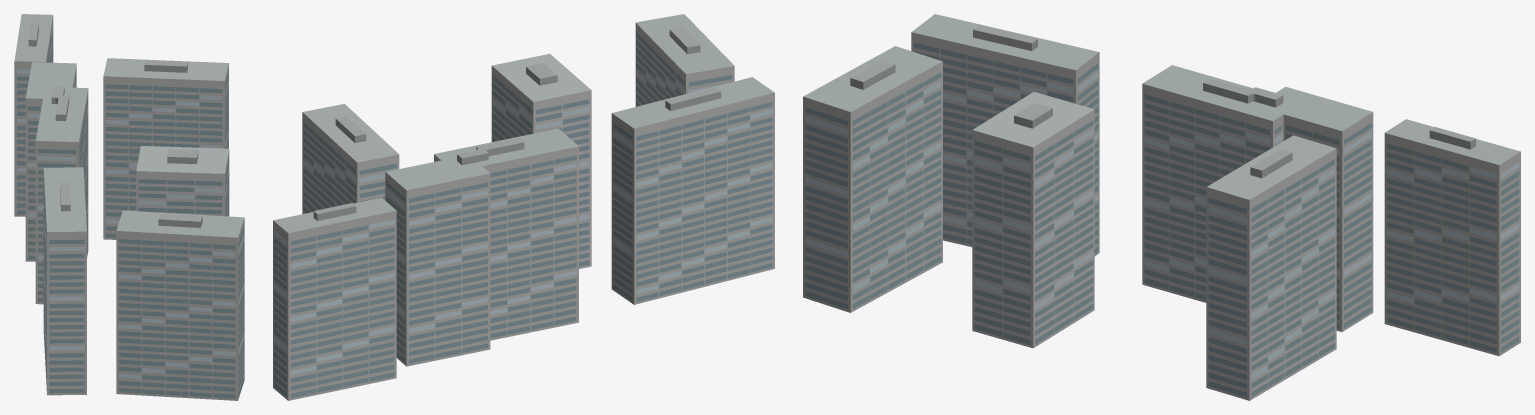
The model's file is apt-a15010306.glb.
The picture shows the model from 3 angles, left to right: view 1: azimuth 30°, elevation 25°; view 2: azimuth 150°, elevation 25°; view 3: azimuth 270°, elevation 25°; orthographic projection. The views are drawn at different scales.
Parts seen in each view (by area): view 1: apt-a15010306; view 2: apt-a15010306; view 3: apt-a15010306.
Part boxes in pixels (x1=…): apt-a15010306: x1=14, y1=14, x2=244, y2=400; apt-a15010306: x1=273, y1=14, x2=774, y2=400; apt-a15010306: x1=803, y1=14, x2=1520, y2=400.
Bounding box in the file's own units: 122 × 64 × 199.
